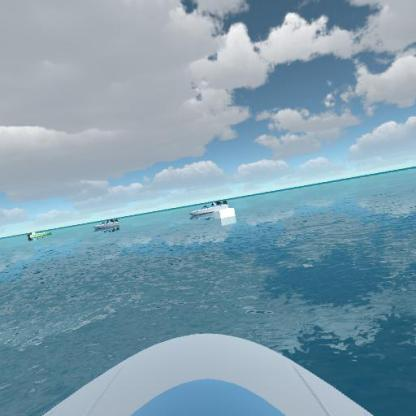usv0: (25, 223, 56, 244)
usv1: (187, 196, 234, 218), (91, 214, 122, 233)
